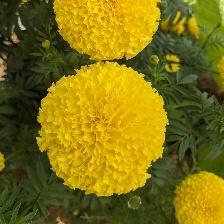marigold: (35, 62, 172, 199)
